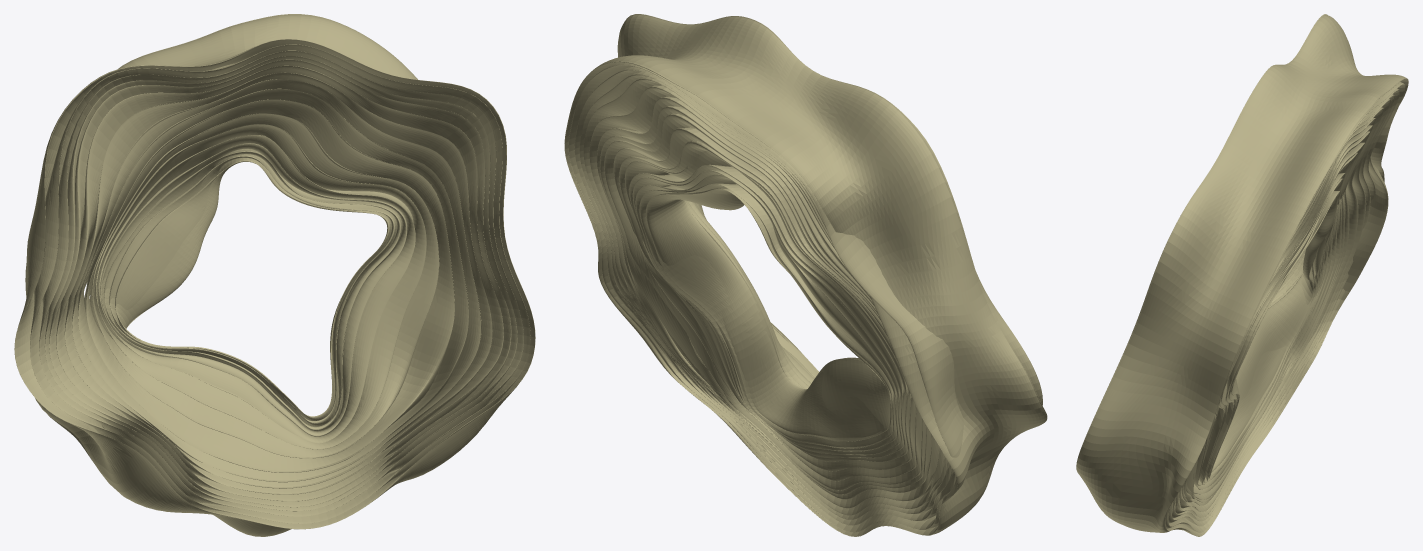
3 renders of one model, left to right at view 1: azimuth 30°, elevation 25°; view 2: azimuth 150°, elevation 25°; view 3: azimuth 270°, elevation 25°, orthographic. The views are drawn at different scales.
Parts seen in each view (by area): view 1: srink_model; view 2: srink_model; view 3: srink_model.
Part boxes in pixels (left/top/right/bottom): srink_model: left=14, top=14, right=535, bottom=536; srink_model: left=564, top=14, right=1047, bottom=536; srink_model: left=1076, top=14, right=1408, bottom=536.
Size of the model in its own units: 2.6 by 2.6 by 1.62.
